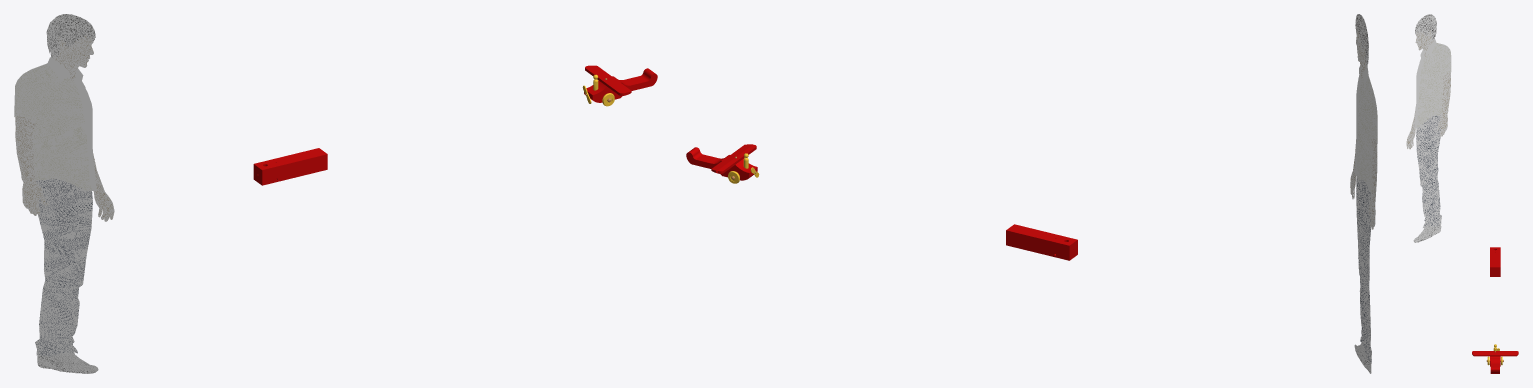
The model's file is Toy_7.fbx.
3 views of the same model, side by side, from view 1: azimuth 30°, elevation 25°; view 2: azimuth 150°, elevation 25°; view 3: azimuth 270°, elevation 25° (orthographic). The views are drawn at different scales.
Visible parts, largest first — view 1: Model, Group1; view 2: Model, Group1; view 3: Model, Group1.
Part boxes in pixels (bbox=[...]): Model: bbox=[14, 14, 327, 373]; Group1: bbox=[582, 65, 657, 106]; Model: bbox=[1006, 14, 1377, 373]; Group1: bbox=[686, 144, 759, 183]; Model: bbox=[1406, 14, 1500, 276]; Group1: bbox=[1472, 344, 1518, 373].
Size of the model in its own units: 346 by 176 by 79.7.
